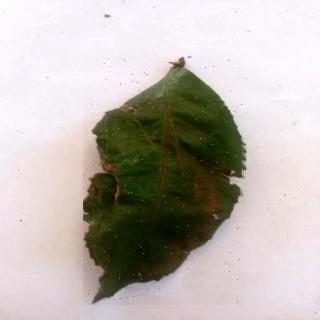Brown Blight: (85, 58, 247, 306)
